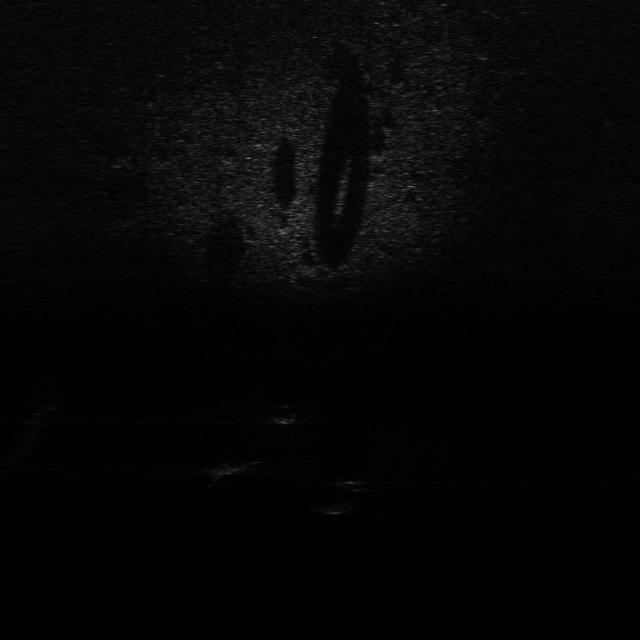ball: (270, 400, 298, 425)
square cage: (200, 457, 254, 478)
tyre: (310, 468, 366, 518)
